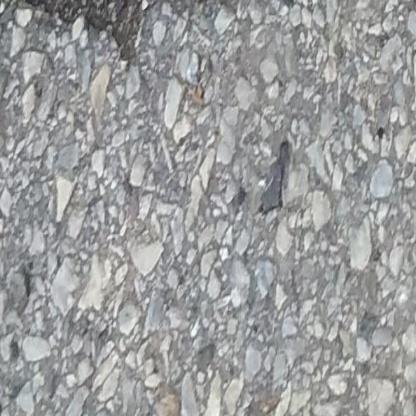Cracks: (0, 0, 204, 58)
